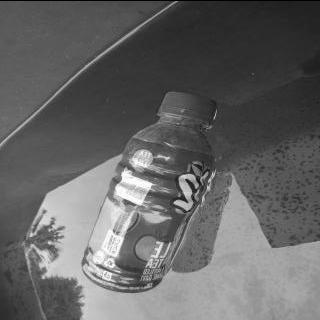bottle: (78, 90, 216, 292)
